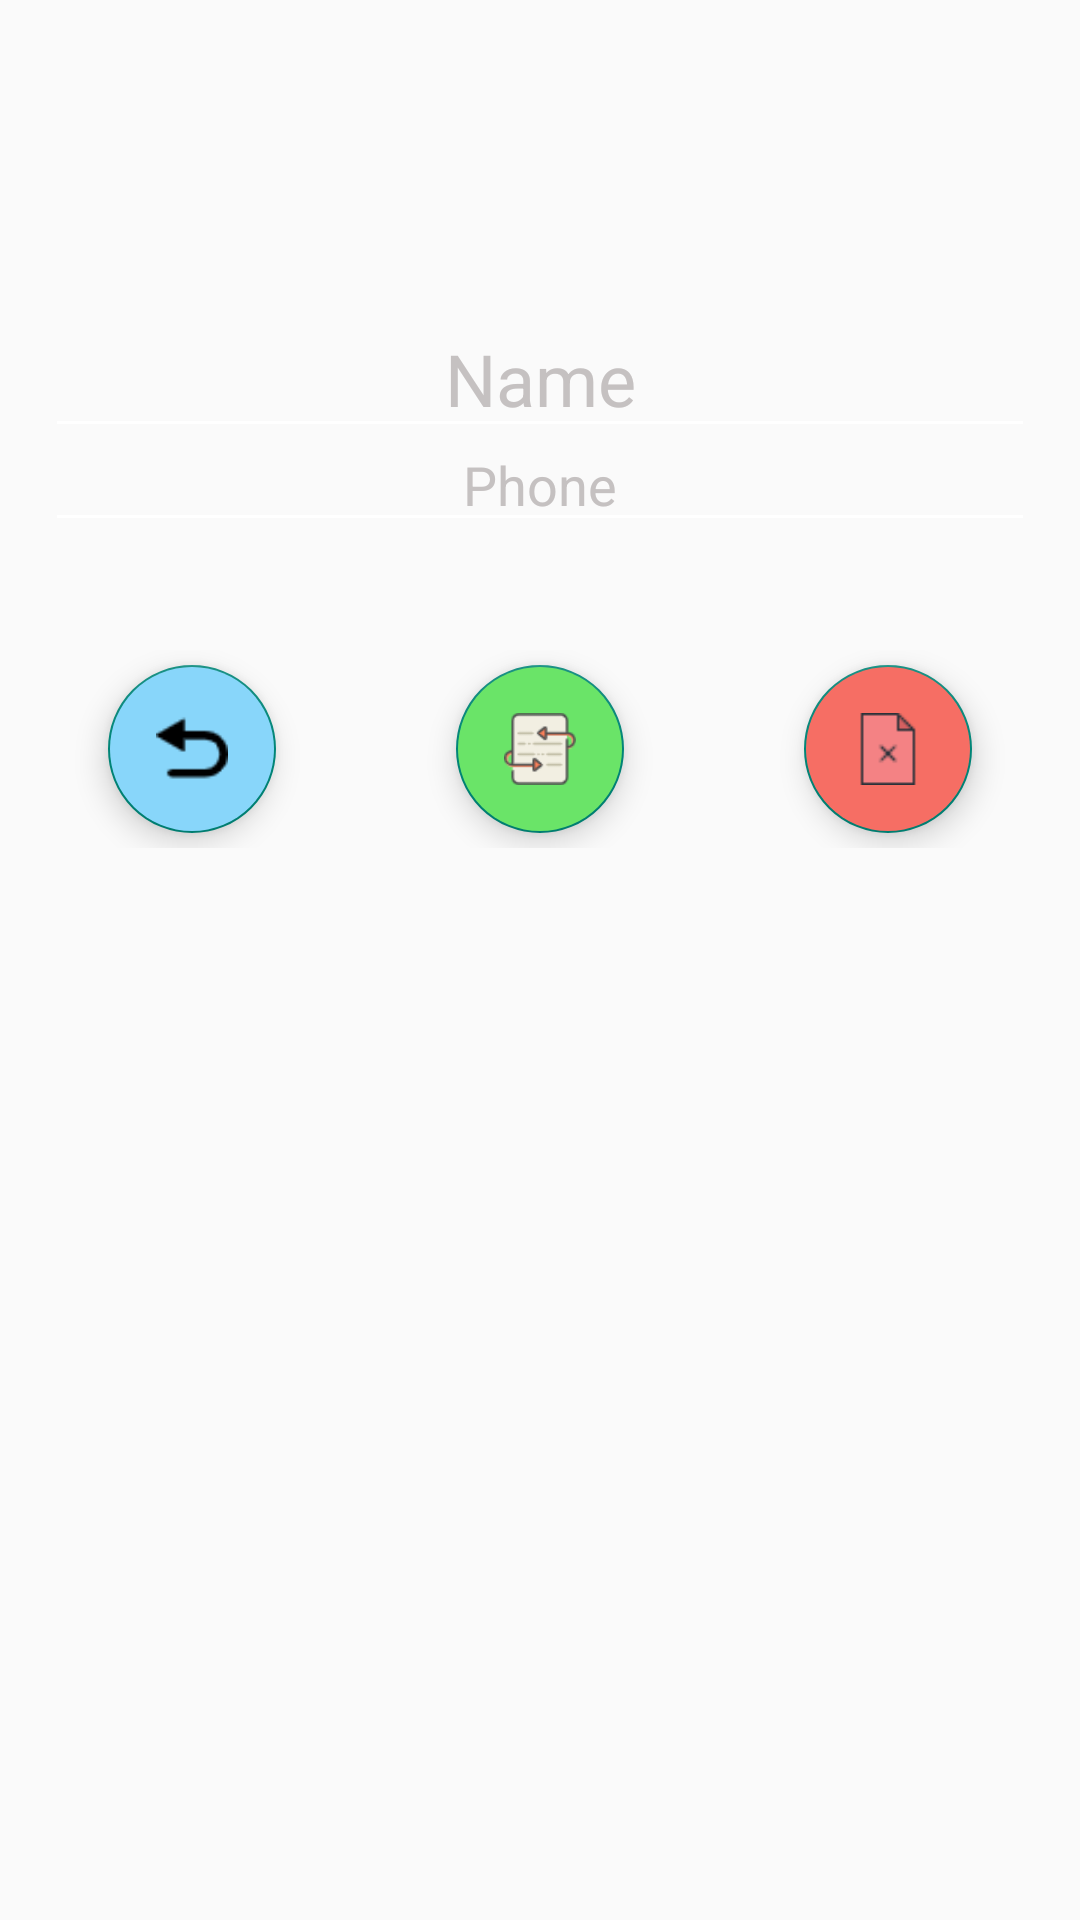

Where icons sit on this 1080×1920 app screen, as bbox(x1, y1, x2, y2):
back: bbox(108, 665, 276, 833)
delete one: bbox(804, 665, 972, 833)
update: bbox(456, 665, 624, 833)
